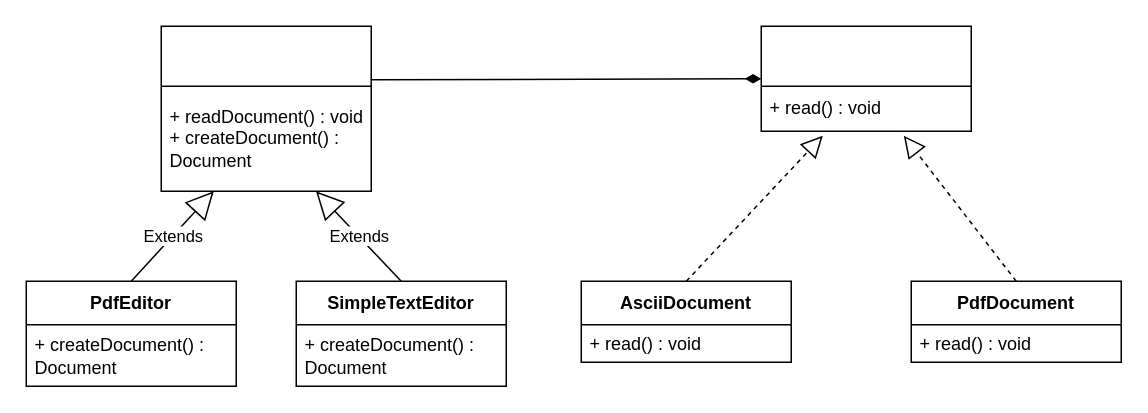
Image size: 1148x413. Some labels were removed from this diagram. Here are the shapes that lost their labels. From the top down, the box of each, then its label:
(760, 25, 971, 131): <<interface>> Document
(160, 25, 371, 191): <<abstract>> Application
